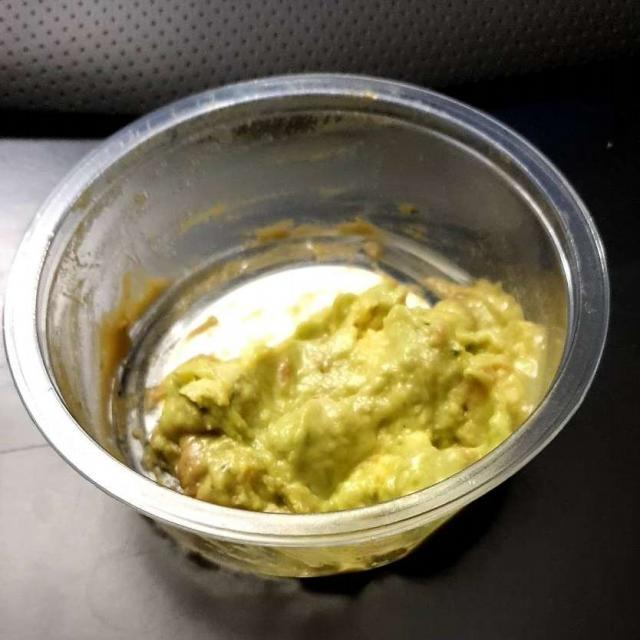guacamole: (117, 269, 560, 538)
